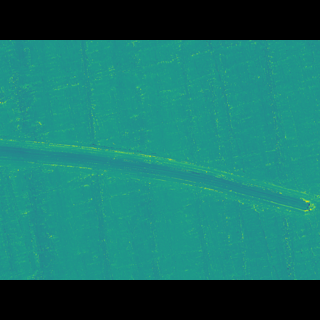Loch: (0, 140, 320, 208)
